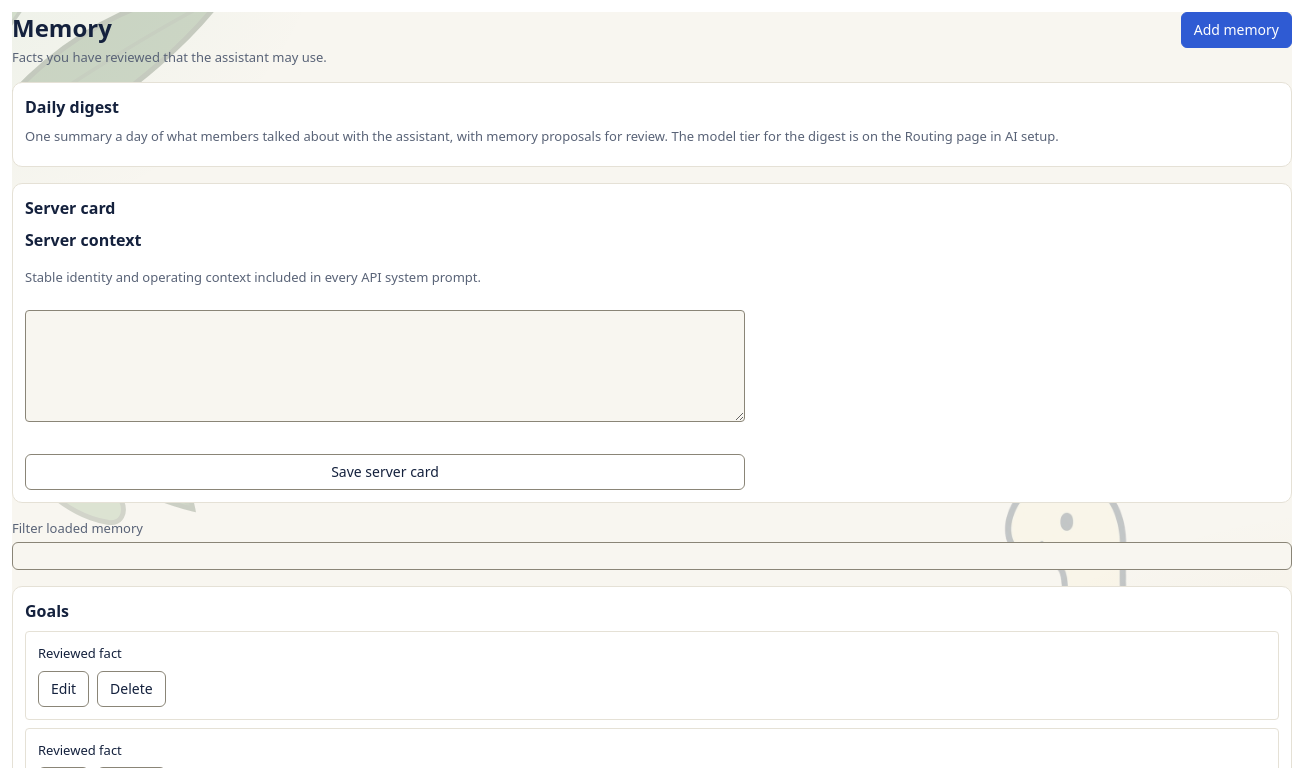
Scenario: filtered memory miss has one clear action and no writes
Type "notfound" into the field labelled "Filter loaded memory" at (652, 556), box x1=12 y1=542 x2=1292 y2=570
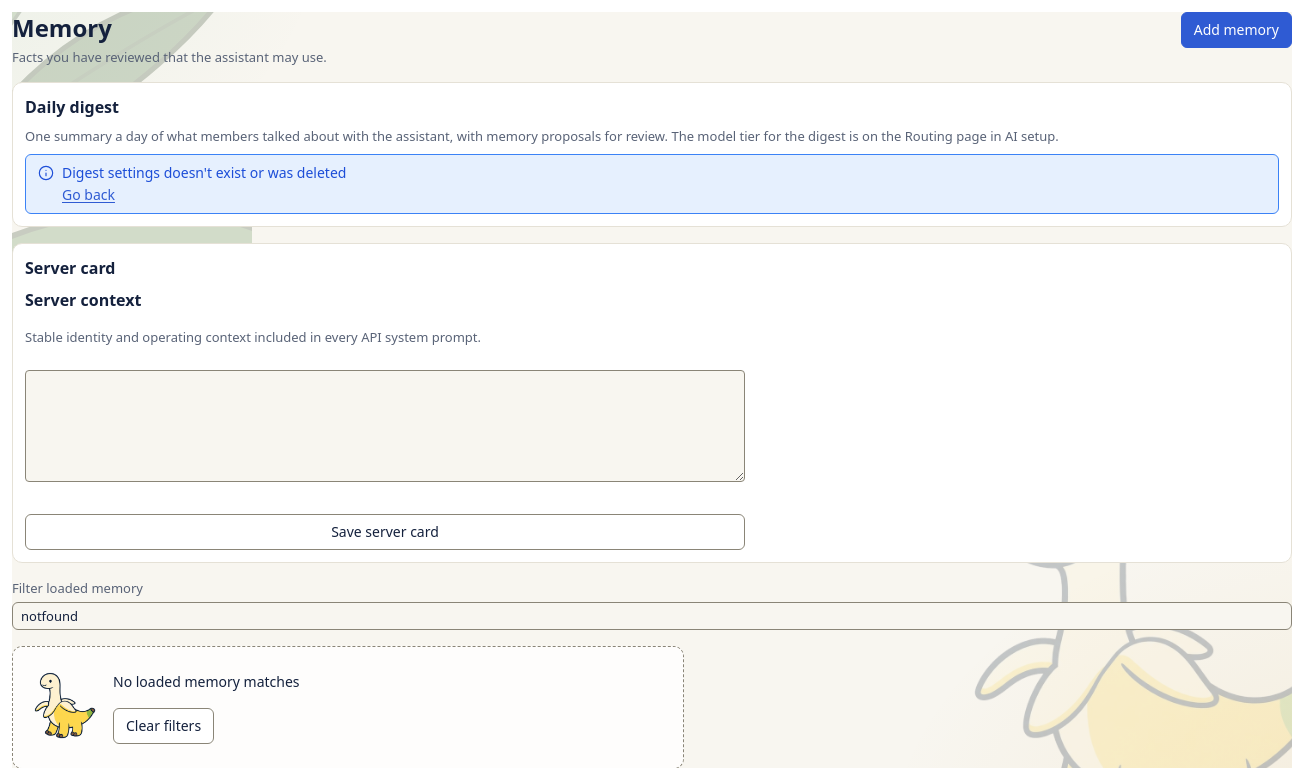
Result: the number of buttons "Clear filters" is 1 at x1=113 y1=708 x2=214 y2=744
